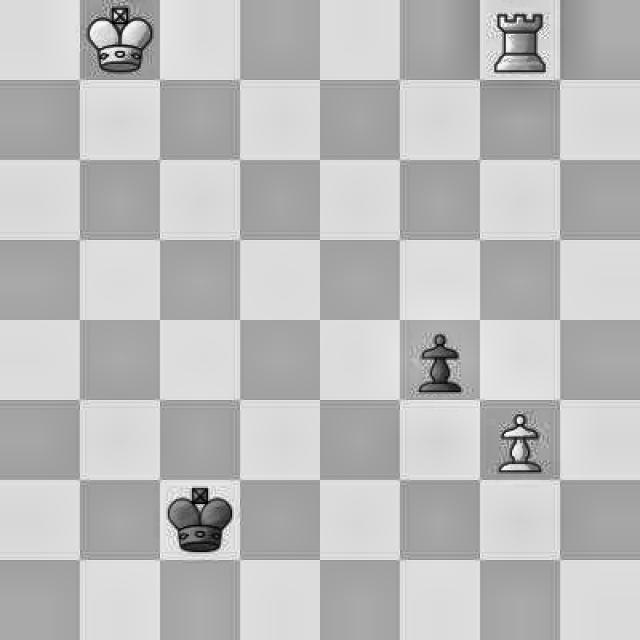black king: (163, 478, 243, 560)
black pawn: (398, 325, 483, 397)
white king: (80, 0, 158, 80)
white pawn: (475, 397, 562, 482)
white rook: (482, 0, 560, 80)
